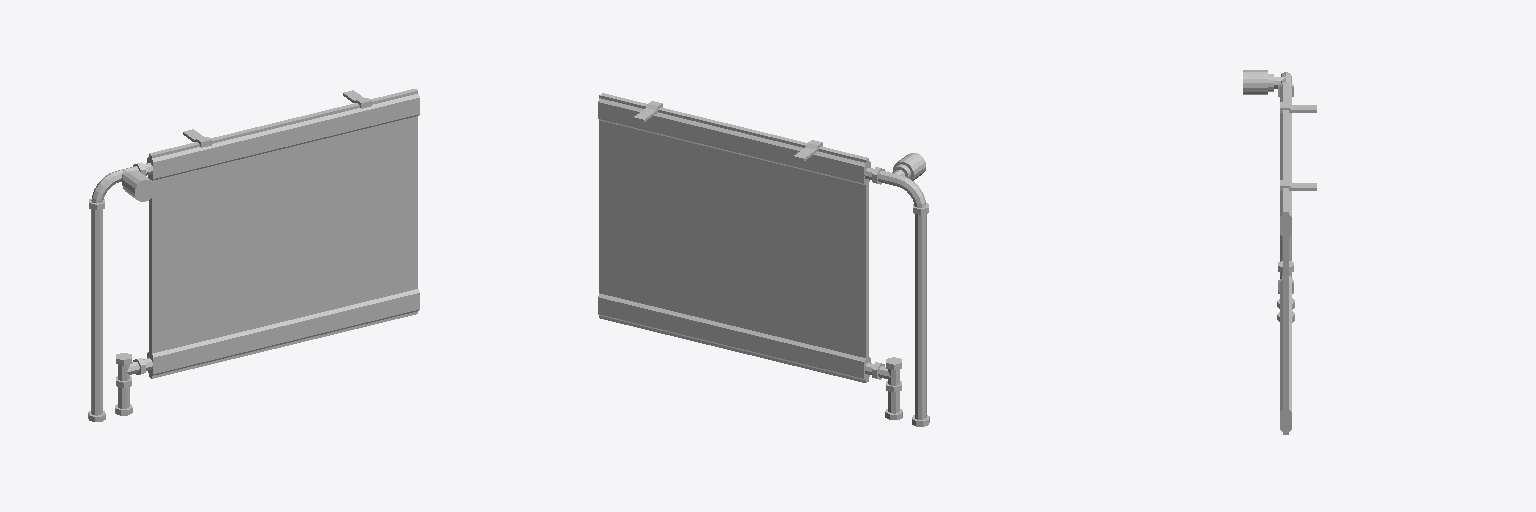
The model's file is Radiator_Panel.obj.
The picture shows the model from 3 angles: view 1: azimuth 30°, elevation 25°; view 2: azimuth 150°, elevation 25°; view 3: azimuth 270°, elevation 25°; orthographic projection.
Visible parts, largest first — view 1: MS_Radiator_Panel; view 2: MS_Radiator_Panel; view 3: MS_Radiator_Panel.
Part boxes in pixels (bbox=[...]): MS_Radiator_Panel: bbox=[88, 89, 419, 421]; MS_Radiator_Panel: bbox=[598, 93, 929, 426]; MS_Radiator_Panel: bbox=[1243, 70, 1316, 434].
Size of the model in its own units: 1.23 by 0.91 by 0.24.